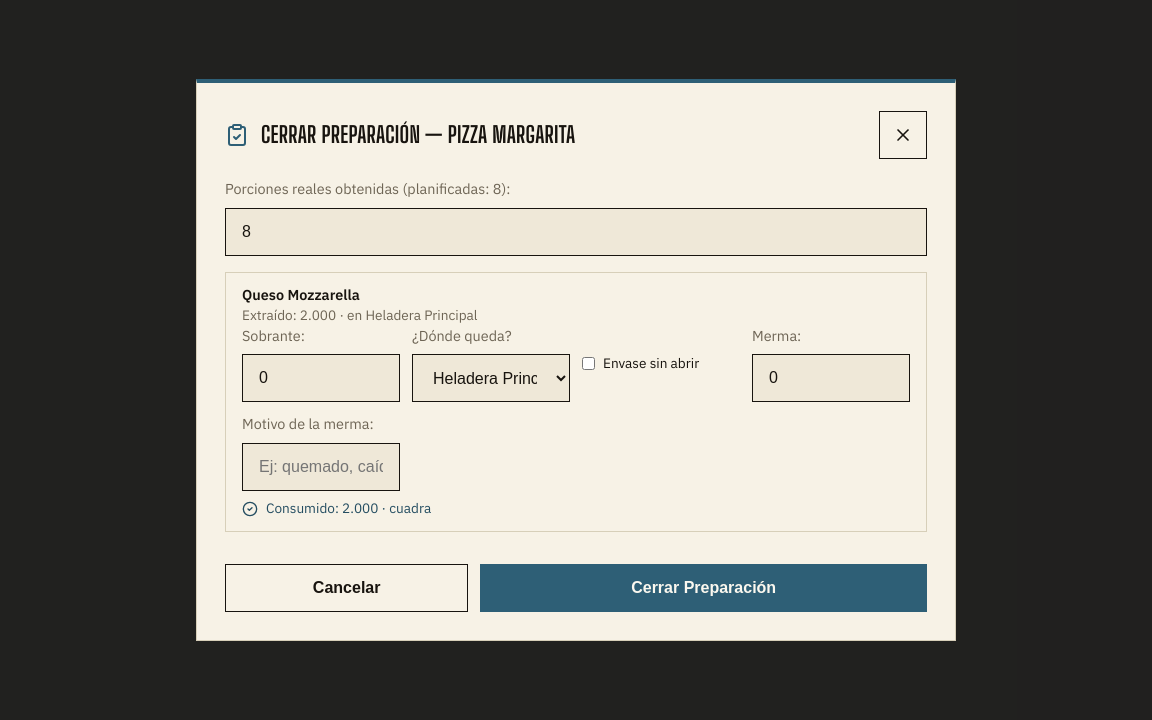
ClosePreparationModal (US-028 / TK-104-FE) › un 422 del backend se muestra traducido en el ErrorBanner y no cierra el modal
Step 1. Replace the text in the number field labelled "Sobrante:" with "0.300" → (321, 378), box [242,354,400,402]
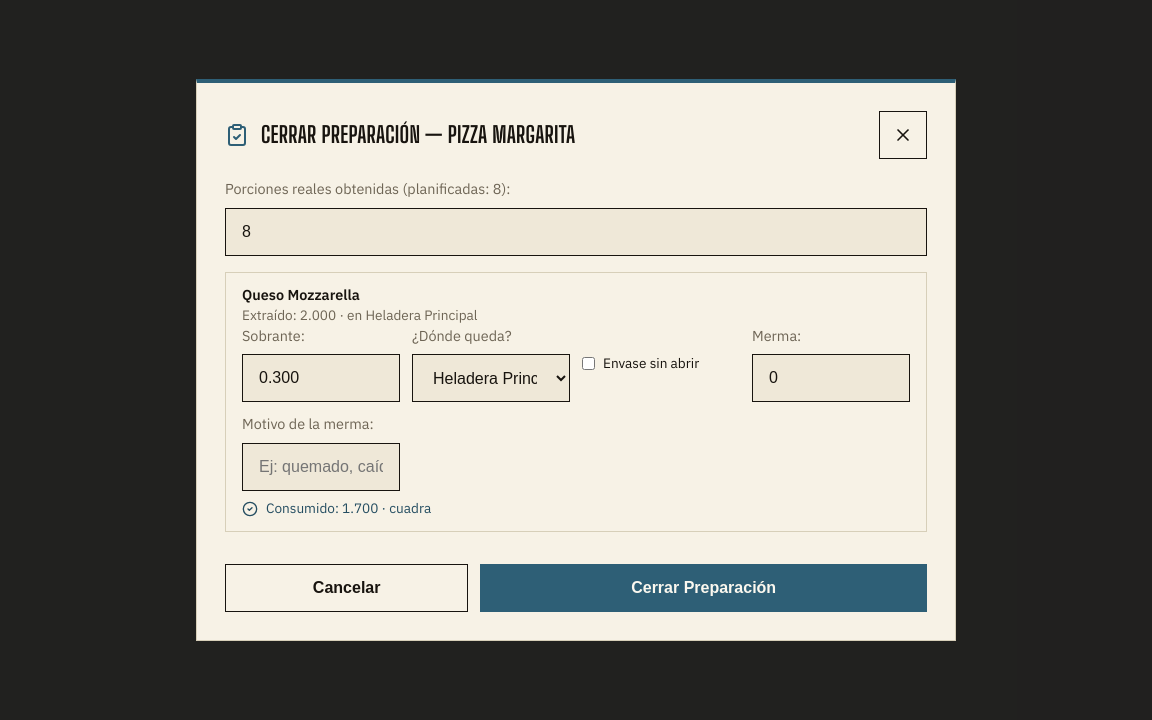
Step 2. Click the button "Cerrar Preparación" → (704, 588), box [480,564,927,612]
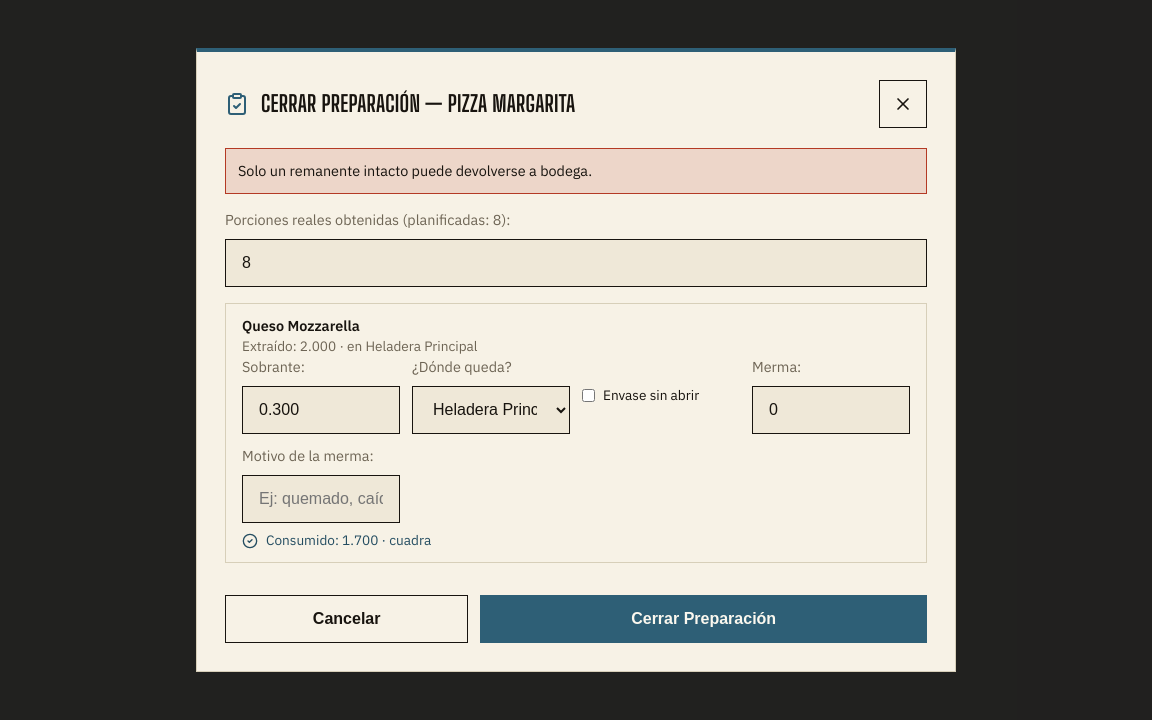
Expected: the message shows "remanente intacto", [238,161,592,180]
